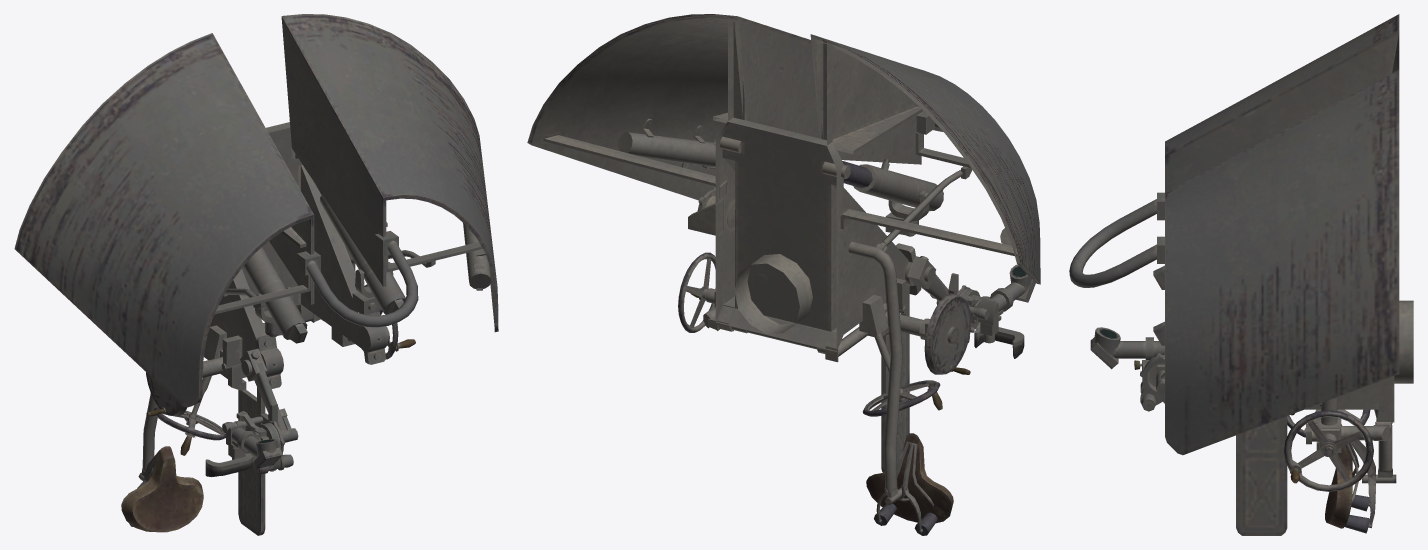
The model's file is Turret_01.glb.
3 renders of one model, left to right at view 1: azimuth 30°, elevation 25°; view 2: azimuth 150°, elevation 25°; view 3: azimuth 270°, elevation 25°, orthographic. The views are drawn at different scales.
Parts seen in each view (by area): view 1: set_0_group_0; view 2: set_0_group_0; view 3: set_0_group_0.
Part boxes in pixels (<box>): set_0_group_0: <box>14,14,498,535</box>; set_0_group_0: <box>527,14,1040,535</box>; set_0_group_0: <box>1069,14,1413,535</box>.
Bounding box in the file's own units: 2.19 × 2.08 × 1.22.
Materials: 1 (1 with a texture image).
